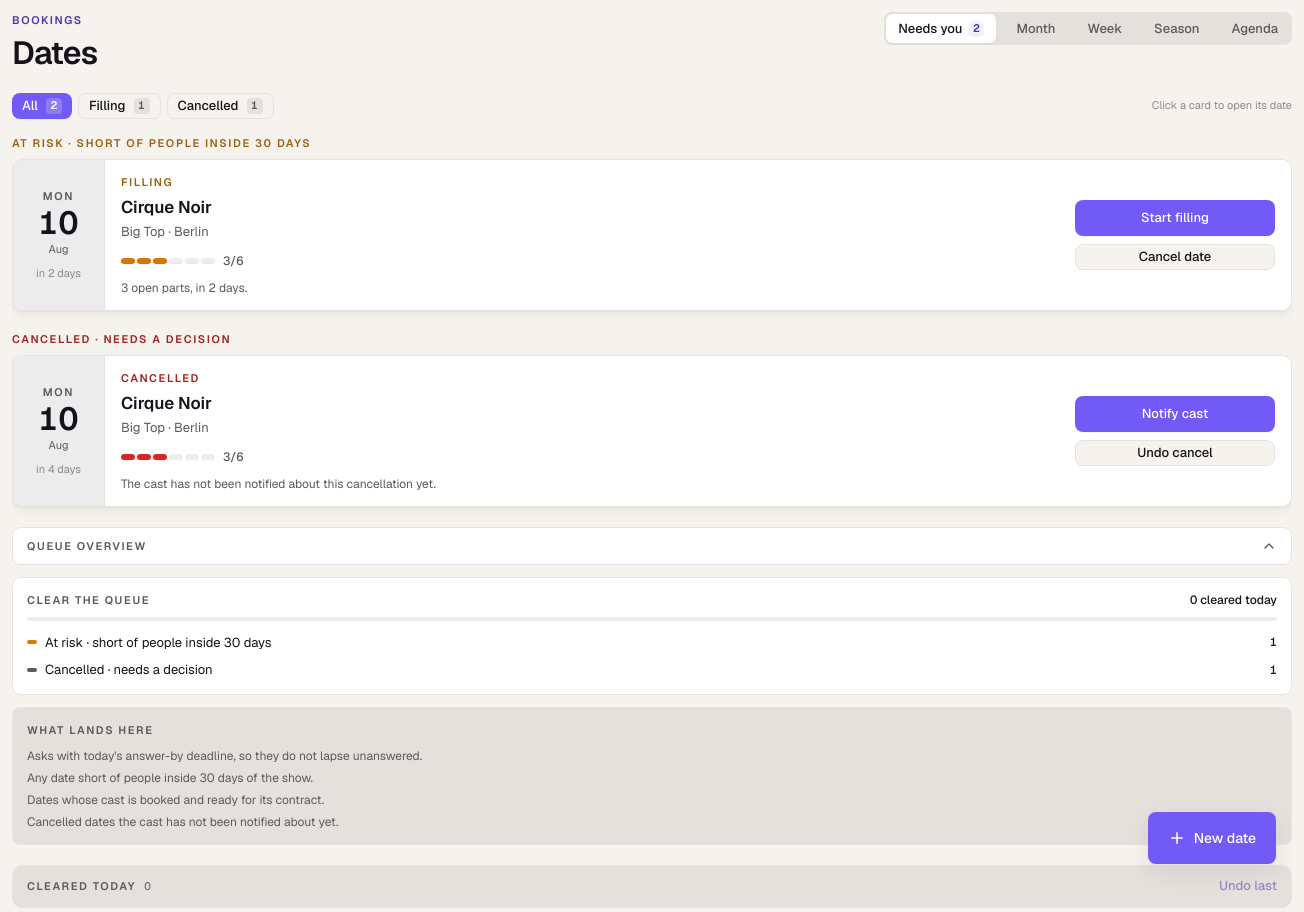
Test case: CalendarSurface — mobile shell (useIsMobile true) › renders the scope-chip row on mobile Needs-you too, filtering the groups the same way as desktop
Expected: the element with test id "scope-chip-row" is shown, [12,92,274,118]
Click the button with test id "scope-chip-cancelled" at (220, 106), box [166,92,274,118]
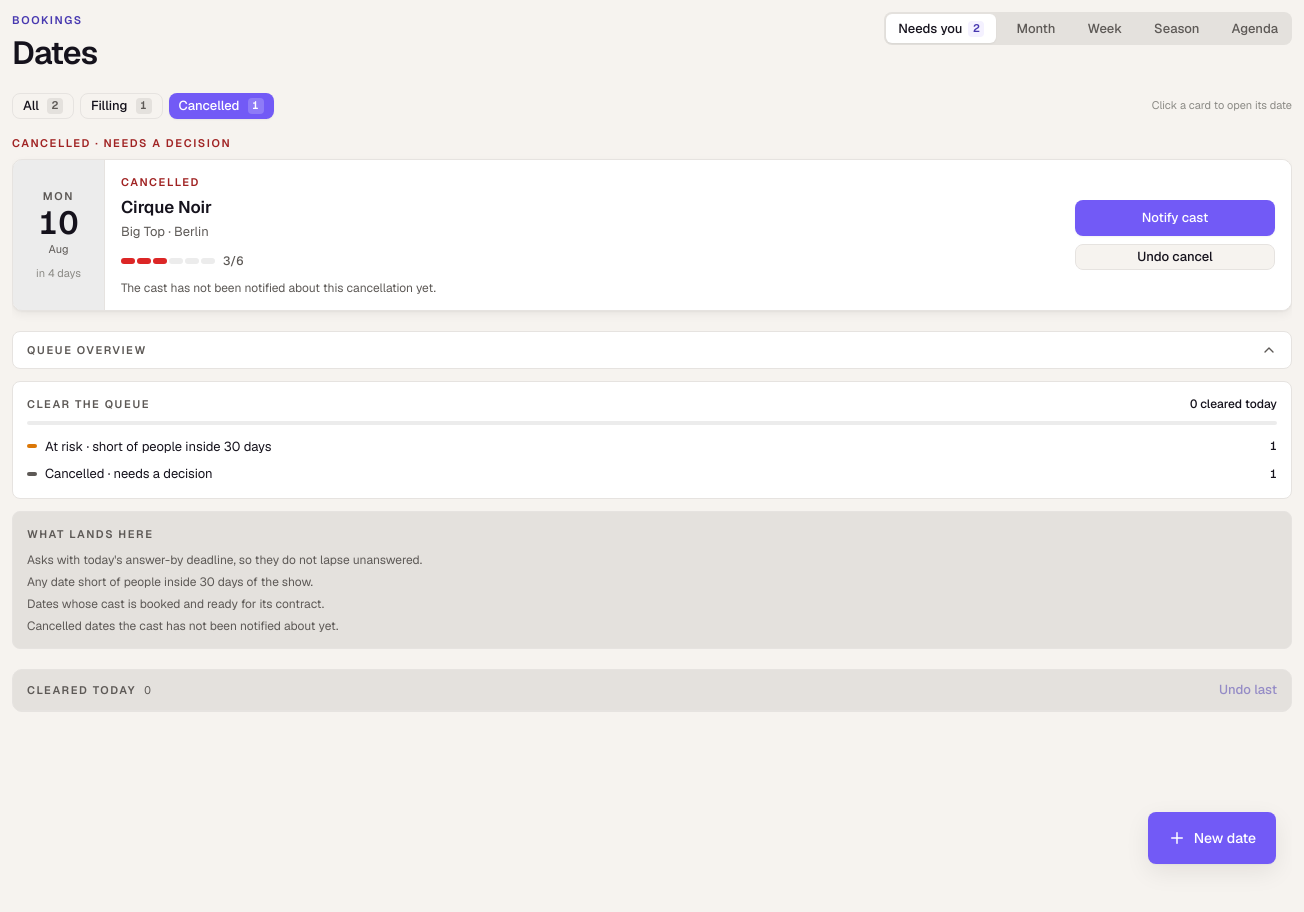
Expected: the element with test id "needs-you-group-cancelled" is shown, [12,134,1292,310]
Expected: the element with test id "needs-you-group-at-risk" is gone
